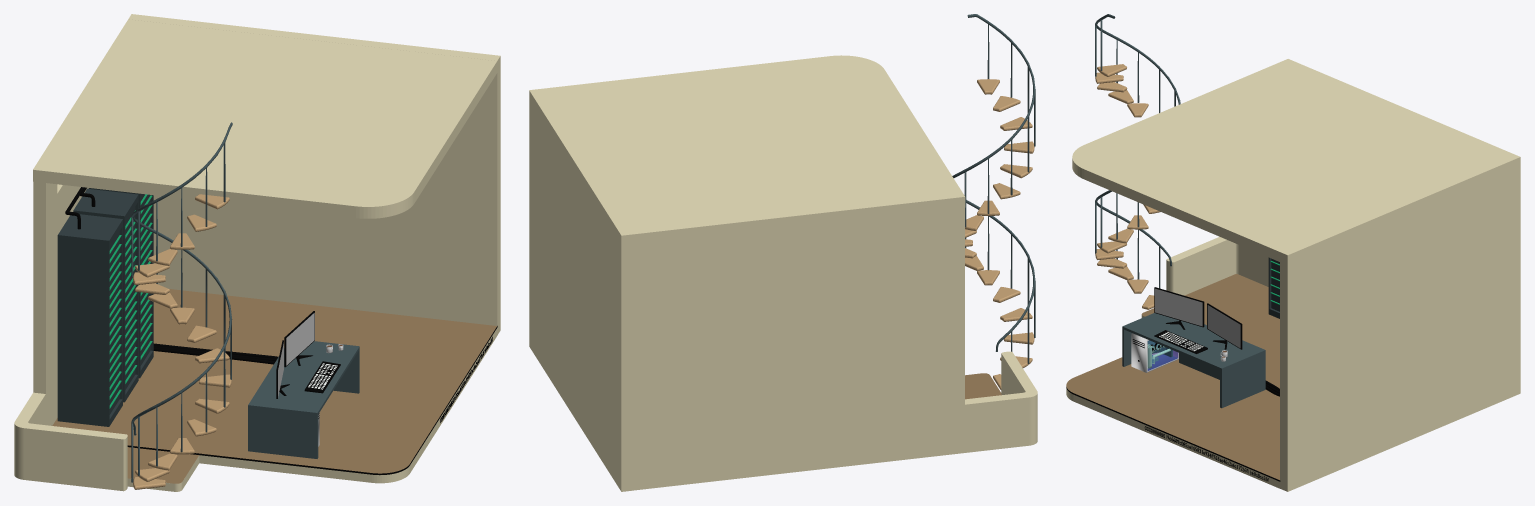
Rendered from portfolio_v2_room_bottom.glb.
3 views of the same model, side by side, from view 1: azimuth 30°, elevation 25°; view 2: azimuth 150°, elevation 25°; view 3: azimuth 270°, elevation 25° (orthographic). The views are drawn at different scales.
Visible parts, largest first — view 1: Walll.003, Wall, Walll, Plane.012, Cube.002, Cube.001, Circle, Cube.003, Plane.016, Cube.004, Plane.013, Monitor (+1 smaller); view 2: Plane.012, Walll.003, Walll, Circle, Plane.016, Plane.013, Wall; view 3: Walll, Walll.003, Wall, Cube.001, Plane.012, Circle, Plane.016, Monitor.002, PC, Monitor, Plane.013, Cube.002 (+1 smaller).
Part boxes in pixels (bbox=[...]): Walll.003: bbox=[33, 19, 497, 218]; Wall: bbox=[52, 289, 497, 491]; Walll: bbox=[128, 14, 500, 334]; Plane.012: bbox=[14, 181, 127, 491]; Cube.002: bbox=[57, 214, 122, 426]; Cube.001: bbox=[248, 341, 359, 458]; Circle: bbox=[133, 194, 231, 489]; Cube.003: bbox=[73, 188, 138, 402]; Plane.016: bbox=[131, 127, 232, 482]; Cube.004: bbox=[88, 188, 153, 378]; Plane.013: bbox=[132, 122, 232, 435]; Monitor: bbox=[286, 313, 314, 365]; Plane.012: bbox=[633, 208, 1037, 490]; Walll.003: bbox=[541, 55, 965, 246]; Walll: bbox=[529, 89, 633, 491]; Circle: bbox=[965, 79, 1034, 389]; Plane.016: bbox=[955, 14, 1035, 363]; Plane.013: bbox=[952, 14, 1034, 351]; Wall: bbox=[965, 373, 1001, 399]; Walll: bbox=[1280, 153, 1520, 491]; Walll.003: bbox=[1072, 59, 1511, 261]; Wall: bbox=[1066, 274, 1280, 488]; Cube.001: bbox=[1122, 313, 1265, 408]; Plane.012: bbox=[1166, 236, 1268, 295]; Circle: bbox=[1095, 64, 1160, 309]; Plane.016: bbox=[1095, 14, 1180, 288]; Monitor.002: bbox=[1155, 288, 1202, 326]; PC: bbox=[1131, 333, 1178, 372]; Monitor: bbox=[1207, 305, 1240, 348]; Plane.013: bbox=[1096, 14, 1180, 266]; Cube.002: bbox=[1268, 257, 1279, 318].
Size of the model in its own units: 12 by 8.3 by 10.66.
